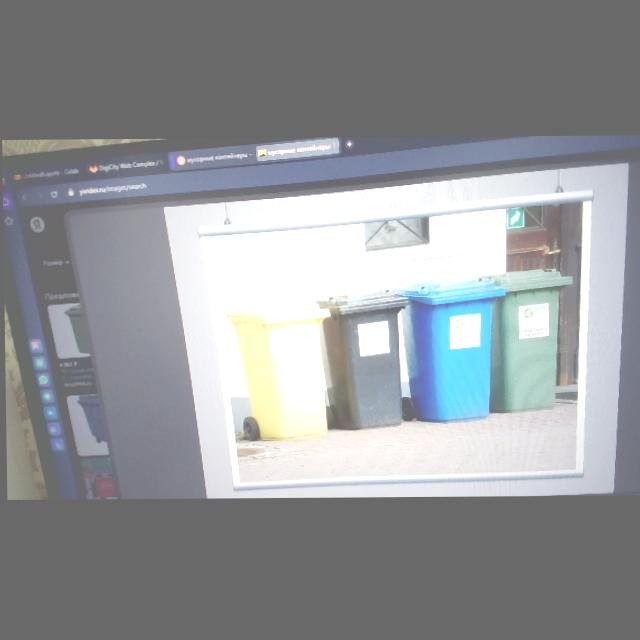Trash_Can_Closed: (392, 278, 507, 422), (225, 299, 332, 441), (309, 289, 411, 431), (478, 268, 574, 415)
